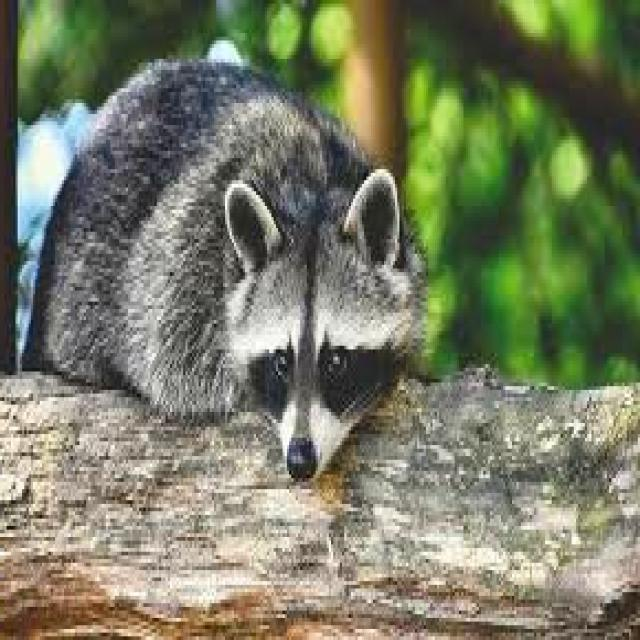raccoon: (18, 59, 426, 478)
